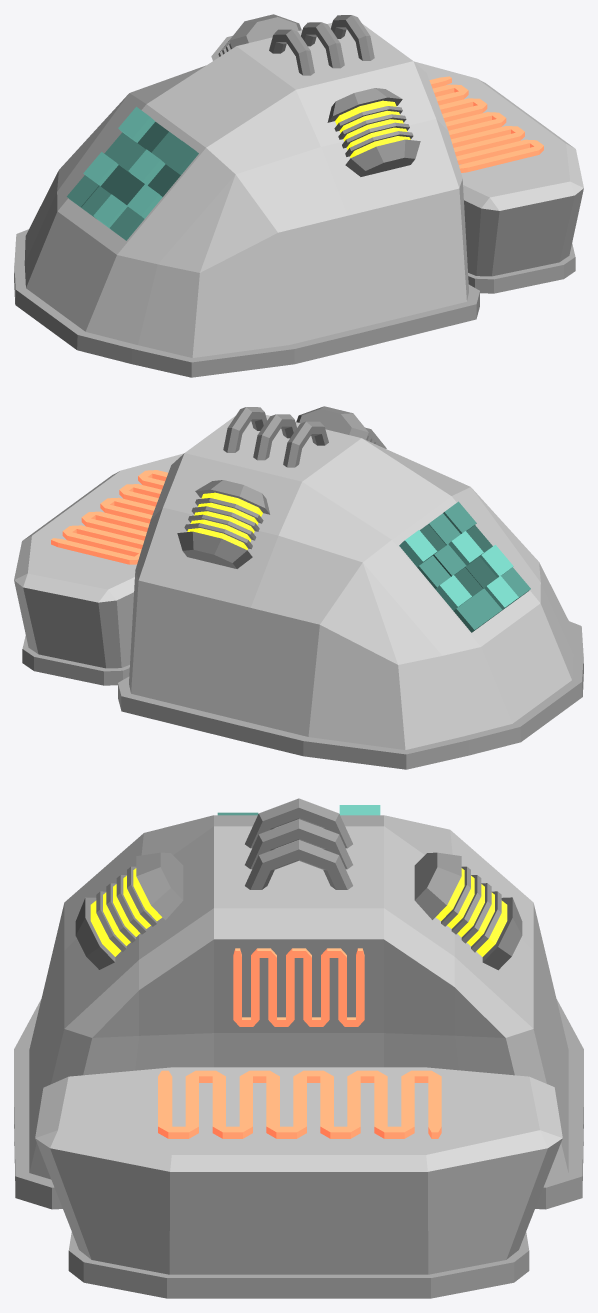
File: smelter_lvl_1.fbx
The picture shows the model from 3 angles, top to bottom: view 1: azimuth 30°, elevation 25°; view 2: azimuth 150°, elevation 25°; view 3: azimuth 270°, elevation 25°; orthographic projection. The views are drawn at different scales.
Parts seen in each view (by area): view 1: smelter_platform_main_lvl_1, smelter_platform_secondary_lvl_1, smelter_cosmo_panel_lvl_1, smelter_energy_cell_1_lvl_1, smelter_heater_bottom_lvl_1, smelter_pipes_lvl_1, smelter_energy_cell_2_lvl_1; view 2: smelter_platform_main_lvl_1, smelter_platform_secondary_lvl_1, smelter_cosmo_panel_lvl_1, smelter_energy_cell_2_lvl_1, smelter_heater_bottom_lvl_1, smelter_pipes_lvl_1, smelter_energy_cell_1_lvl_1; view 3: smelter_platform_main_lvl_1, smelter_platform_secondary_lvl_1, smelter_heater_bottom_lvl_1, smelter_energy_cell_2_lvl_1, smelter_energy_cell_1_lvl_1, smelter_pipes_lvl_1, smelter_heater_top_lvl_1.
Part boxes in pixels (box(x1,y1,x2,y2)): smelter_platform_main_lvl_1: box(14, 23, 479, 377); smelter_platform_secondary_lvl_1: box(414, 61, 583, 293); smelter_cosmo_panel_lvl_1: box(67, 106, 198, 240); smelter_energy_cell_1_lvl_1: box(327, 88, 420, 176); smelter_heater_bottom_lvl_1: box(429, 76, 543, 172); smelter_pipes_lvl_1: box(269, 15, 374, 75); smelter_energy_cell_2_lvl_1: box(211, 14, 301, 60); smelter_platform_main_lvl_1: box(118, 415, 583, 769); smelter_platform_secondary_lvl_1: box(14, 453, 183, 685); smelter_cosmo_panel_lvl_1: box(399, 501, 530, 632); smelter_energy_cell_2_lvl_1: box(177, 480, 270, 568); smelter_heater_bottom_lvl_1: box(51, 470, 167, 564); smelter_pipes_lvl_1: box(223, 407, 328, 467); smelter_energy_cell_1_lvl_1: box(296, 406, 386, 448); smelter_platform_main_lvl_1: box(14, 815, 583, 1209); smelter_platform_secondary_lvl_1: box(35, 1067, 562, 1298); smelter_heater_bottom_lvl_1: box(158, 1070, 441, 1138); smelter_energy_cell_2_lvl_1: box(414, 852, 522, 970); smelter_energy_cell_1_lvl_1: box(75, 852, 183, 969); smelter_pipes_lvl_1: box(245, 798, 352, 889); smelter_heater_top_lvl_1: box(233, 948, 364, 1026).
Bounding box in the file's own units: 297 × 139 × 212.
